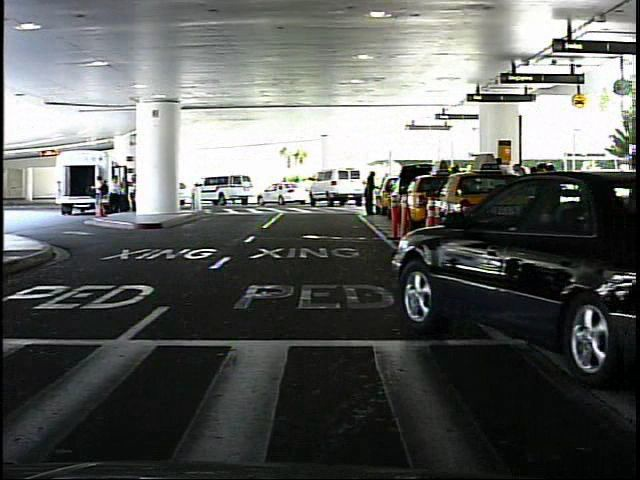person: (362, 164, 385, 220), (576, 166, 595, 223)
